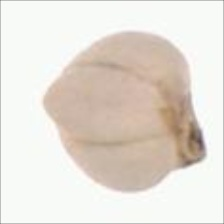L5: (39, 62, 174, 145), (175, 76, 209, 172)
L6: (39, 29, 209, 193)
